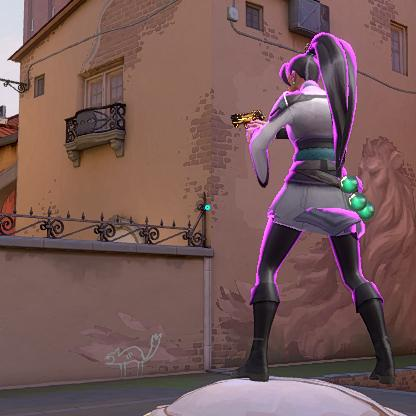enemyBody: (296, 97, 338, 184)
enemyHead: (293, 61, 320, 91)
